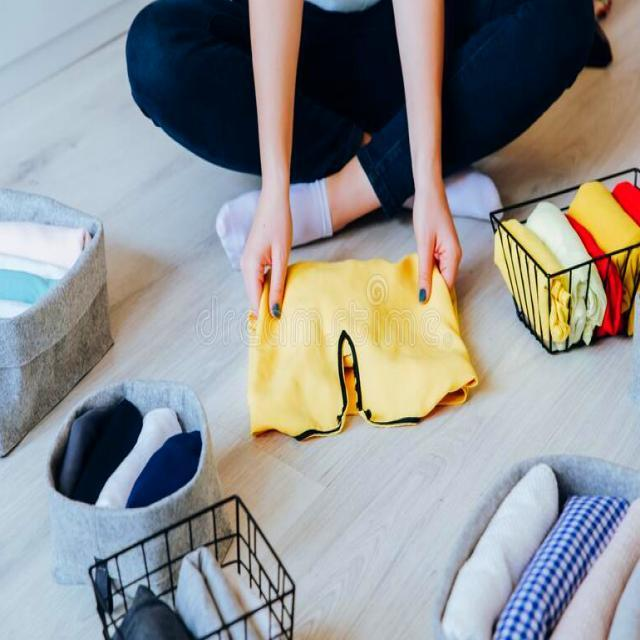clothes: (255, 252, 470, 436), (463, 467, 640, 640), (66, 408, 200, 518)
